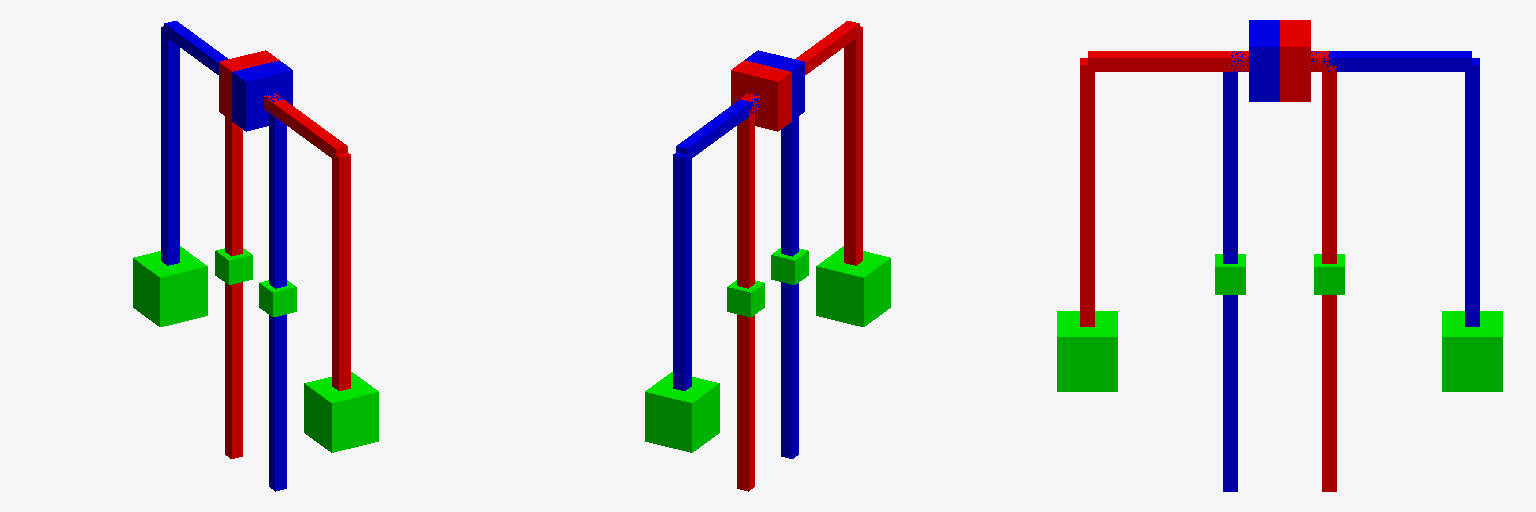
The robot description file, URDF, robot "stick_bot":
<?xml version='1.0' encoding='utf-8'?>
<robot name="stick_bot">
  <link name="left_leg">
    <visual name="left_leg_motor">
      <origin xyz="0 0.005 0" rpy="0 0 0" />
      <geometry>
        <box size="0.02 0.01 0.02" />
      </geometry>
      <material>
        <color rgba="1 0 0 0.5" />
      </material>
    </visual>
    <visual name="left_leg_axel">
      <origin xyz="0 0.008 0" rpy="0 0 0" />
      <geometry>
        <box size="0.005 0.016 0.005" />
      </geometry>
      <material>
        <color rgba="1 0 0 0.5" />
      </material>
    </visual>
    <visual name="left_leg_arm_axel">
      <origin xyz="0 -0.03125 0" rpy="0 0 0" />
      <geometry>
        <box size="0.005 0.0625 0.005" />
      </geometry>
      <material>
        <color rgba="1 0 0 0.5" />
      </material>
    </visual>
    <visual name="left_leg_arm">
      <origin xyz="0 -0.0625 -0.052" rpy="0 0 0" />
      <geometry>
        <box size="0.005 0.005 0.104" />
      </geometry>
      <material>
        <color rgba="1 0 0 0.5" />
      </material>
    </visual>
    <visual name="left_leg_hand_mass">
      <origin xyz="0 -0.0625 -0.104" rpy="0 0 0" />
      <geometry>
        <box size="0.02 0.02 0.02" />
      </geometry>
      <material>
        <color rgba="0 1 0 0.5" />
      </material>
    </visual>
    <visual name="left_leg_link">
      <origin xyz="0 0.016 -0.0765" rpy="0 0 0" />
      <geometry>
        <box size="0.005 0.005 0.153" />
      </geometry>
      <material>
        <color rgba="1 0 0 0.5" />
      </material>
    </visual>
    <visual name="left_leg_mass">
      <origin xyz="0 0.016 -0.0765" rpy="0 0 0" />
      <geometry>
        <box size="0.01 0.01 0.01" />
      </geometry>
      <material>
        <color rgba="0 1 0 0.5" />
      </material>
    </visual>
    <visual name="left_leg_foot_visual">
      <origin xyz="0.014 0.016 -0.153" rpy="0 0 0" />
      <geometry>
        <mesh filename="/home/sman/Work/CMU/Research/LEGO-mujoco/stickbot/X_0.24_Y_0.24_Z_0.24_box_x_0.101_box_y_0.0527/left_foot_geom.obj" />
      </geometry>
      <material>
        <color rgba="1 0 0 0.5" />
      </material>
    </visual>
    <collision name="left_leg_foot_collision">
      <origin xyz="0.014 0.016 -0.153" rpy="0 0 0" />
      <geometry>
        <mesh filename="/home/sman/Work/CMU/Research/LEGO-mujoco/stickbot/X_0.24_Y_0.24_Z_0.24_box_x_0.101_box_y_0.0527/left_foot_geom.obj" />
      </geometry>
      <material>
        <color rgba="1 0 0 0.5" />
      </material>
    </collision>
  </link>
  <link name="right_leg">
    <visual name="right_leg_motor">
      <origin xyz="0 -0.005 0" rpy="0 0 0" />
      <geometry>
        <box size="0.02 0.01 0.02" />
      </geometry>
      <material>
        <color rgba="0 0 1 0.5" />
      </material>
    </visual>
    <visual name="right_leg_axel">
      <origin xyz="0 -0.008 0" rpy="0 0 0" />
      <geometry>
        <box size="0.005 0.016 0.005" />
      </geometry>
      <material>
        <color rgba="0 0 1 0.5" />
      </material>
    </visual>
    <visual name="right_leg_arm_axel">
      <origin xyz="0 0.03125 0" rpy="0 0 0" />
      <geometry>
        <box size="0.005 0.0625 0.005" />
      </geometry>
      <material>
        <color rgba="0 0 1 0.5" />
      </material>
    </visual>
    <visual name="right_leg_arm">
      <origin xyz="0 0.0625 -0.052" rpy="0 0 0" />
      <geometry>
        <box size="0.005 0.005 0.104" />
      </geometry>
      <material>
        <color rgba="0 0 1 0.5" />
      </material>
    </visual>
    <visual name="right_leg_hand_mass">
      <origin xyz="0 0.0625 -0.104" rpy="0 0 0" />
      <geometry>
        <box size="0.02 0.02 0.02" />
      </geometry>
      <material>
        <color rgba="0 1 0 0.5" />
      </material>
    </visual>
    <visual name="right_leg_link">
      <origin xyz="0 -0.016 -0.0765" rpy="0 0 0" />
      <geometry>
        <box size="0.005 0.005 0.153" />
      </geometry>
      <material>
        <color rgba="0 0 1 0.5" />
      </material>
    </visual>
    <visual name="right_leg_mass">
      <origin xyz="0 -0.016 -0.0765" rpy="0 0 0" />
      <geometry>
        <box size="0.01 0.01 0.01" />
      </geometry>
      <material>
        <color rgba="0 1 0 0.5" />
      </material>
    </visual>
    <visual name="right_leg_foot_visual">
      <origin xyz="0.014 -0.016 -0.153" rpy="0 0 0" />
      <geometry>
        <mesh filename="/home/sman/Work/CMU/Research/LEGO-mujoco/stickbot/X_0.24_Y_0.24_Z_0.24_box_x_0.101_box_y_0.0527/right_foot_geom.obj" />
      </geometry>
      <material>
        <color rgba="0 0 1 0.5" />
      </material>
    </visual>
    <collision name="right_leg_foot_collision">
      <origin xyz="0.014 -0.016 -0.153" rpy="0 0 0" />
      <geometry>
        <mesh filename="/home/sman/Work/CMU/Research/LEGO-mujoco/stickbot/X_0.24_Y_0.24_Z_0.24_box_x_0.101_box_y_0.0527/right_foot_geom.obj" />
      </geometry>
      <material>
        <color rgba="0 0 1 0.5" />
      </material>
    </collision>
  </link>
  <link name="left_leg_hand_mass_mass_link">
    <inertial name="left_leg_hand_mass_inertial">
      <origin xyz="0 -0.0625 -0.104" rpy="0 0 0" />
      <mass value="0.1" />
      <inertia ixx="0" ixy="0" ixz="0" iyy="0" iyz="0" izz="0" />
    </inertial>
  </link>
  <link name="left_leg_mass_mass_link">
    <inertial name="left_leg_mass_inertial">
      <origin xyz="0 0.016 -0.0765" rpy="0 0 0" />
      <mass value="0.1" />
      <inertia ixx="0" ixy="0" ixz="0" iyy="0" iyz="0" izz="0" />
    </inertial>
  </link>
  <link name="left_feet_mass_link">
    <inertial name="left_feet_inertial">
      <origin xyz="0.014 0.016 -0.153" rpy="0 0 0" />
      <mass value="0.1" />
      <inertia ixx="0" ixy="0" ixz="0" iyy="0" iyz="0" izz="0" />
    </inertial>
  </link>
  <link name="right_leg_hand_mass_mass_link">
    <inertial name="right_leg_hand_mass_inertial">
      <origin xyz="0 0.0625 -0.104" rpy="0 0 0" />
      <mass value="0.1" />
      <inertia ixx="0" ixy="0" ixz="0" iyy="0" iyz="0" izz="0" />
    </inertial>
  </link>
  <link name="right_leg_mass_mass_link">
    <inertial name="right_leg_mass_inertial">
      <origin xyz="0 -0.016 -0.0765" rpy="0 0 0" />
      <mass value="0.1" />
      <inertia ixx="0" ixy="0" ixz="0" iyy="0" iyz="0" izz="0" />
    </inertial>
  </link>
  <link name="right_feet_mass_link">
    <inertial name="right_feet_inertial">
      <origin xyz="0.014 -0.016 -0.153" rpy="0 0 0" />
      <mass value="0.1" />
      <inertia ixx="0" ixy="0" ixz="0" iyy="0" iyz="0" izz="0" />
    </inertial>
  </link>
  <joint name="hip" type="revolute">
    <origin xyz="0 0 0" rpy="0 0 0" />
    <parent link="left_leg" />
    <child link="right_leg" />
    <axis xyz="0 1 0" />
    <limit lower="-0.785" upper="0.785" />
  </joint>
  <joint name="fixed_left_leg_hand_mass_mass_link" type="fixed">
    <origin xyz="0 0 0" rpy="0 0 0" />
    <parent link="left_leg" />
    <child link="left_leg_hand_mass_mass_link" />
  </joint>
  <joint name="fixed_left_leg_mass_mass_link" type="fixed">
    <origin xyz="0 0 0" rpy="0 0 0" />
    <parent link="left_leg" />
    <child link="left_leg_mass_mass_link" />
  </joint>
  <joint name="fixed_left_feet_mass_link" type="fixed">
    <origin xyz="0 0 0" rpy="0 0 0" />
    <parent link="left_leg" />
    <child link="left_feet_mass_link" />
  </joint>
  <joint name="fixed_right_leg_hand_mass_mass_link" type="fixed">
    <origin xyz="0 0 0" rpy="0 0 0" />
    <parent link="right_leg" />
    <child link="right_leg_hand_mass_mass_link" />
  </joint>
  <joint name="fixed_right_leg_mass_mass_link" type="fixed">
    <origin xyz="0 0 0" rpy="0 0 0" />
    <parent link="right_leg" />
    <child link="right_leg_mass_mass_link" />
  </joint>
  <joint name="fixed_right_feet_mass_link" type="fixed">
    <origin xyz="0 0 0" rpy="0 0 0" />
    <parent link="right_leg" />
    <child link="right_feet_mass_link" />
  </joint>
  <mujoco>
    <compiler strippath="false" />
  </mujoco>
</robot>

--- What the picture shows (computed from the rendered views, not written in the file) ---
The picture shows the robot from 3 angles, left to right: view 1: azimuth 30°, elevation 25°; view 2: azimuth 150°, elevation 25°; view 3: azimuth 270°, elevation 25°; orthographic projection.
Robot: stick_bot — 8 links, 7 joints (1 revolute, 6 fixed); root link left_leg; default pose: all joints at 0.
Visible links, largest first — view 1: right_leg, left_leg; view 2: left_leg, right_leg; view 3: left_leg, right_leg.
Boxes of the visible links, box(x1,y1,x2,y2) form: right_leg: box(133, 21, 296, 491); left_leg: box(215, 50, 378, 458); left_leg: box(727, 21, 890, 491); right_leg: box(645, 50, 808, 458); left_leg: box(1057, 20, 1344, 491); right_leg: box(1215, 20, 1502, 491).
Size in the robot's own frame: 0.02 by 0.145 by 0.163 metres.
Geometry: only primitive shapes (box / cylinder / sphere) drawn; not drawn: 2 mesh visuals (reference in a form the renderer does not follow).
